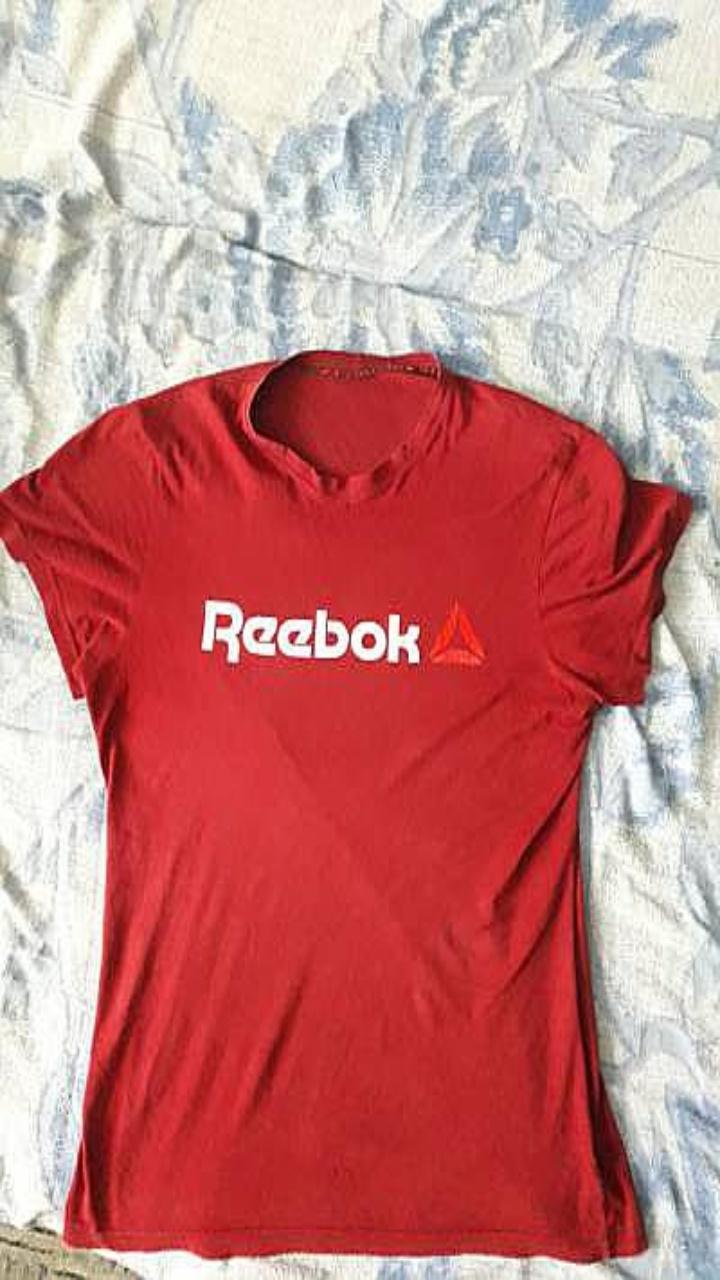T-Shirt: (0, 350, 690, 1261)
